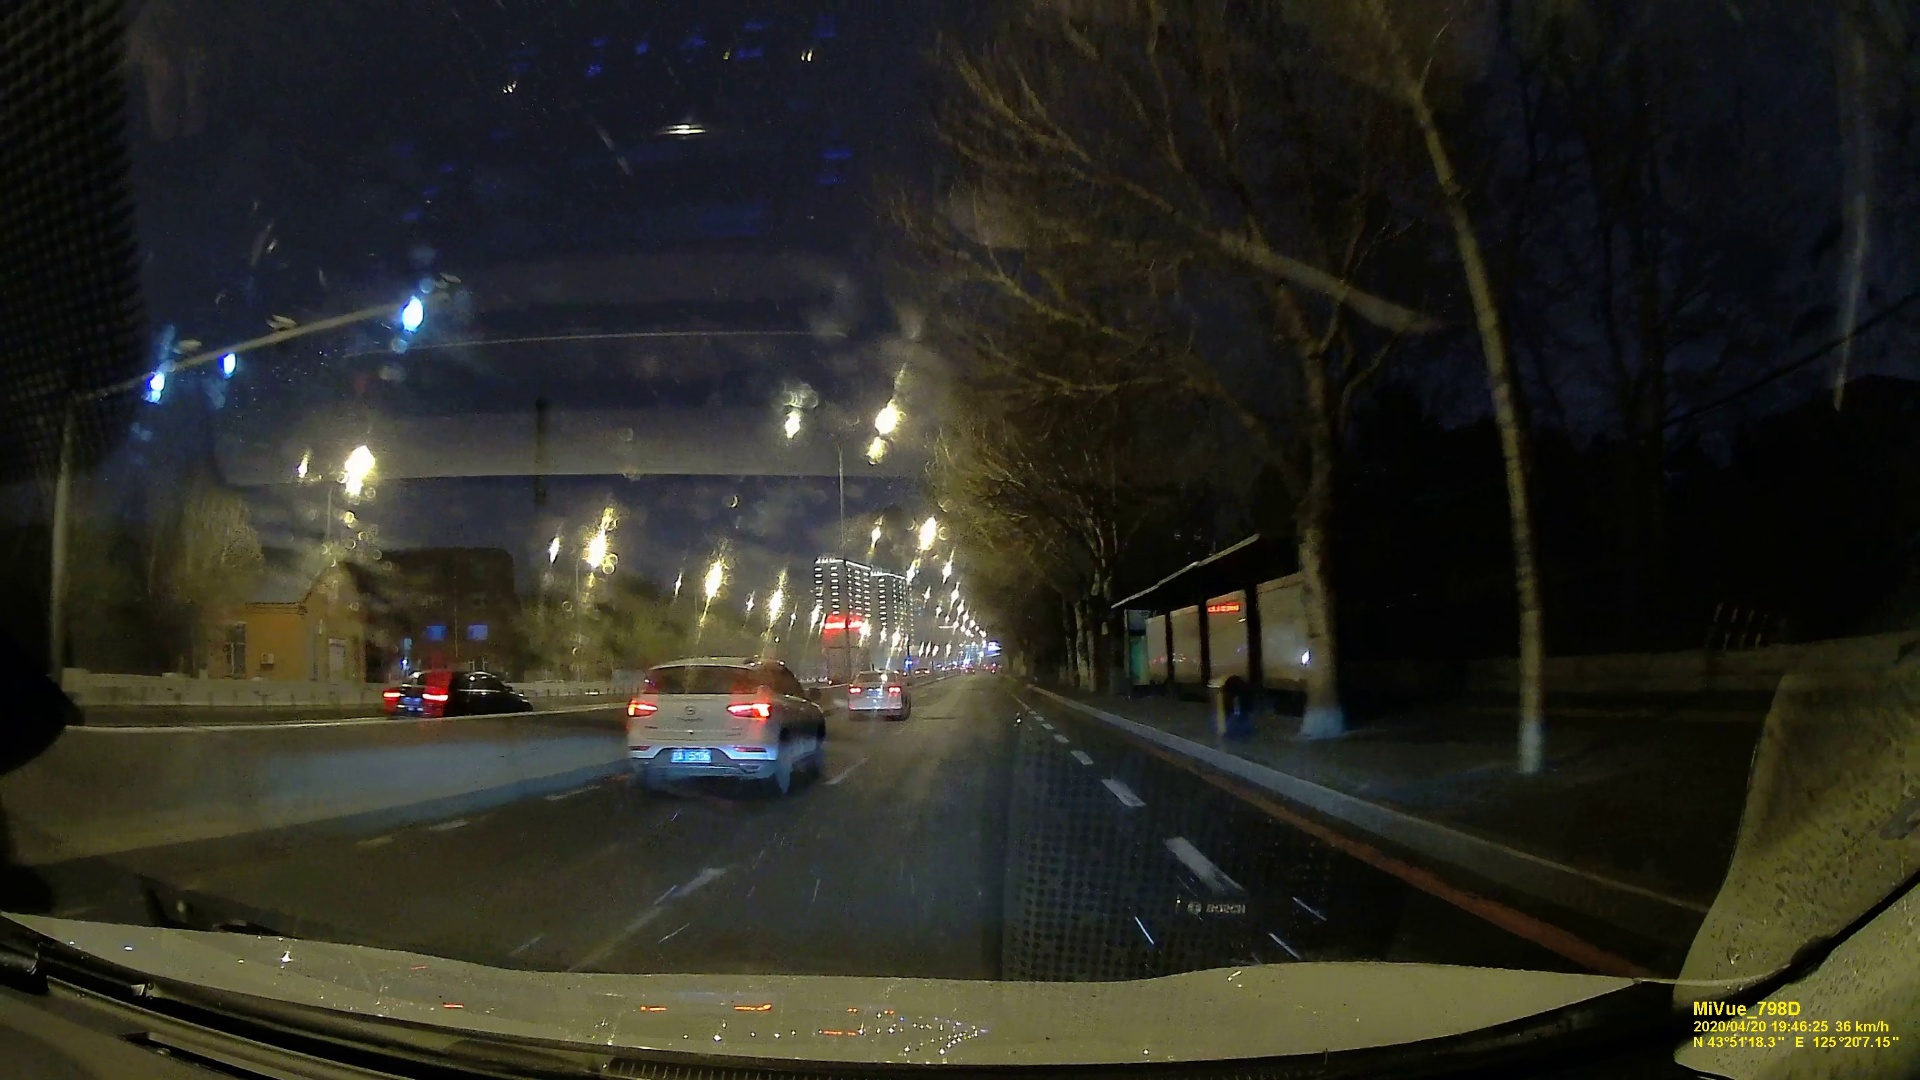vehicle: (622, 654, 825, 800), (384, 666, 526, 713), (845, 669, 913, 717)
